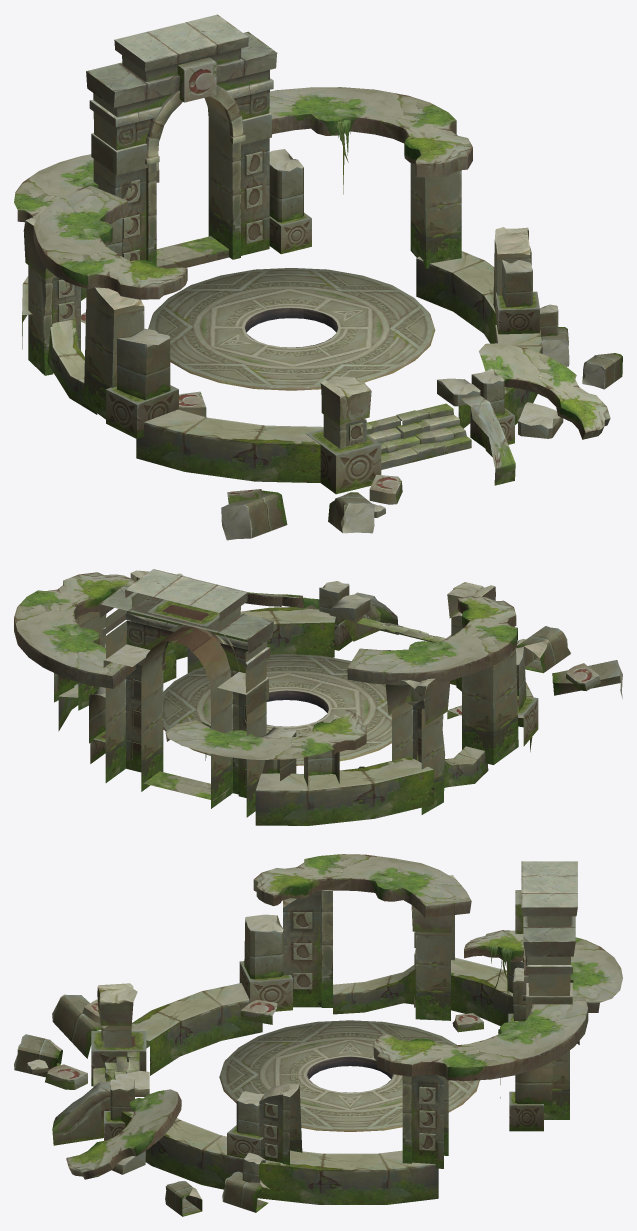
The model's file is jitan_01.FBX.
The picture shows the model from 3 angles, top to bottom: view 1: azimuth 30°, elevation 25°; view 2: azimuth 150°, elevation 25°; view 3: azimuth 270°, elevation 25°; orthographic projection. The views are drawn at different scales.
Visible parts, largest first — view 1: jitan_01; view 2: jitan_01; view 3: jitan_01.
Part boxes in pixels (<box>): jitan_01: <box>14,14,622,540</box>; jitan_01: <box>14,569,622,825</box>; jitan_01: <box>14,854,622,1216</box>.
Bounding box in the file's own units: 4195670 × 2215433 × 5083627.
